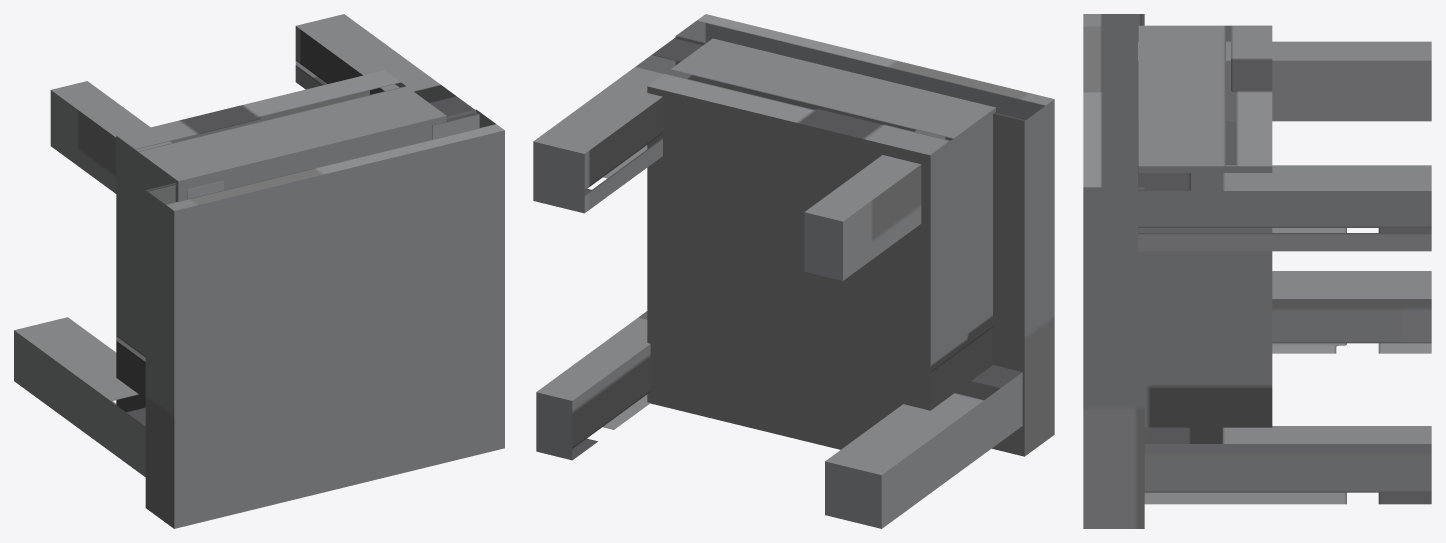
The picture shows the model from 3 angles, left to right: view 1: azimuth 30°, elevation 25°; view 2: azimuth 150°, elevation 25°; view 3: azimuth 270°, elevation 25°; orthographic projection. The views are drawn at different scales.
Bounding box in the file's own units: 0.6471 × 0.5988 × 0.5469.
